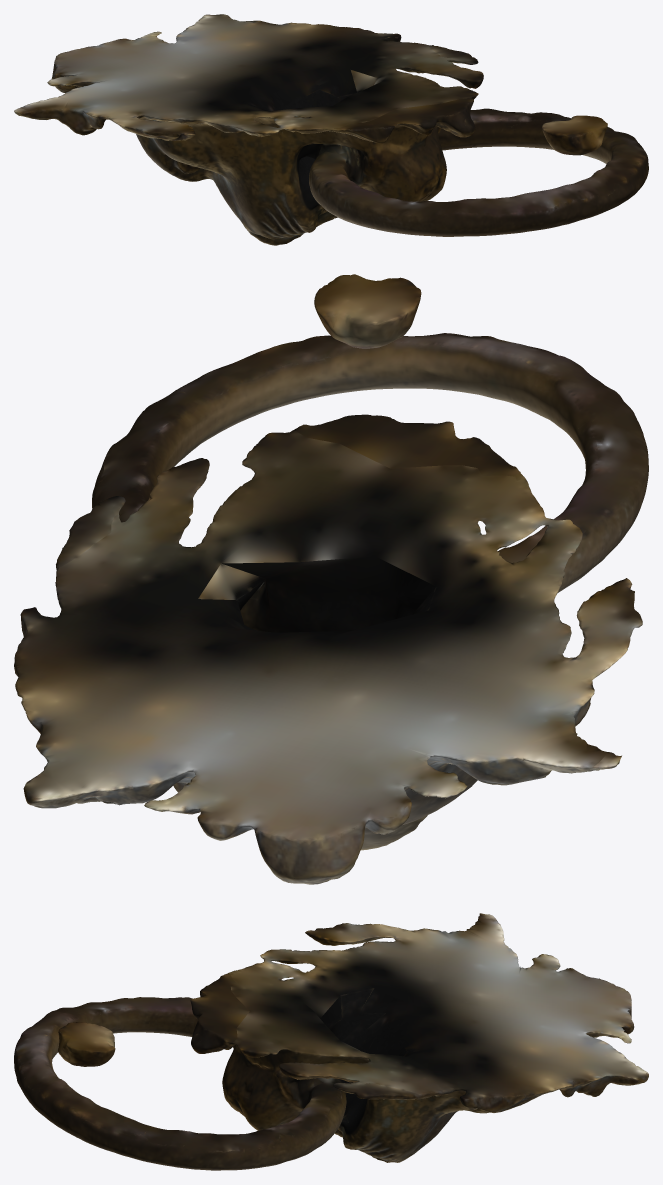
The model's file is doorknob-lion.fbx.
3 renders of one model, top to bottom at view 1: azimuth 30°, elevation 25°; view 2: azimuth 150°, elevation 25°; view 3: azimuth 270°, elevation 25°, orthographic. The views are drawn at different scales.
Parts seen in each view (by area): view 1: meshNode; view 2: meshNode; view 3: meshNode.
Boxes of the visible parts, box(x1,y1,x2,y2) form: meshNode: box(14, 14, 648, 245); meshNode: box(14, 274, 648, 884); meshNode: box(14, 913, 648, 1170).
Bounding box in the file's own units: 1132 × 468 × 1392.
1 material, 1 textured.
